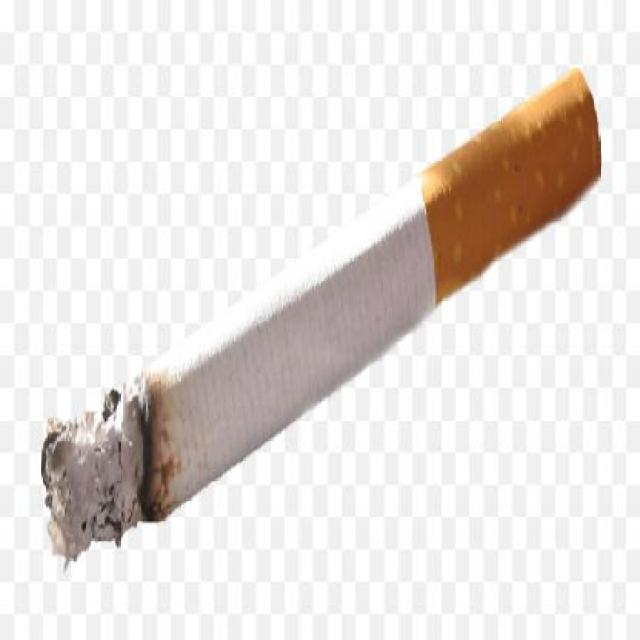cigarette: (42, 54, 610, 586)
